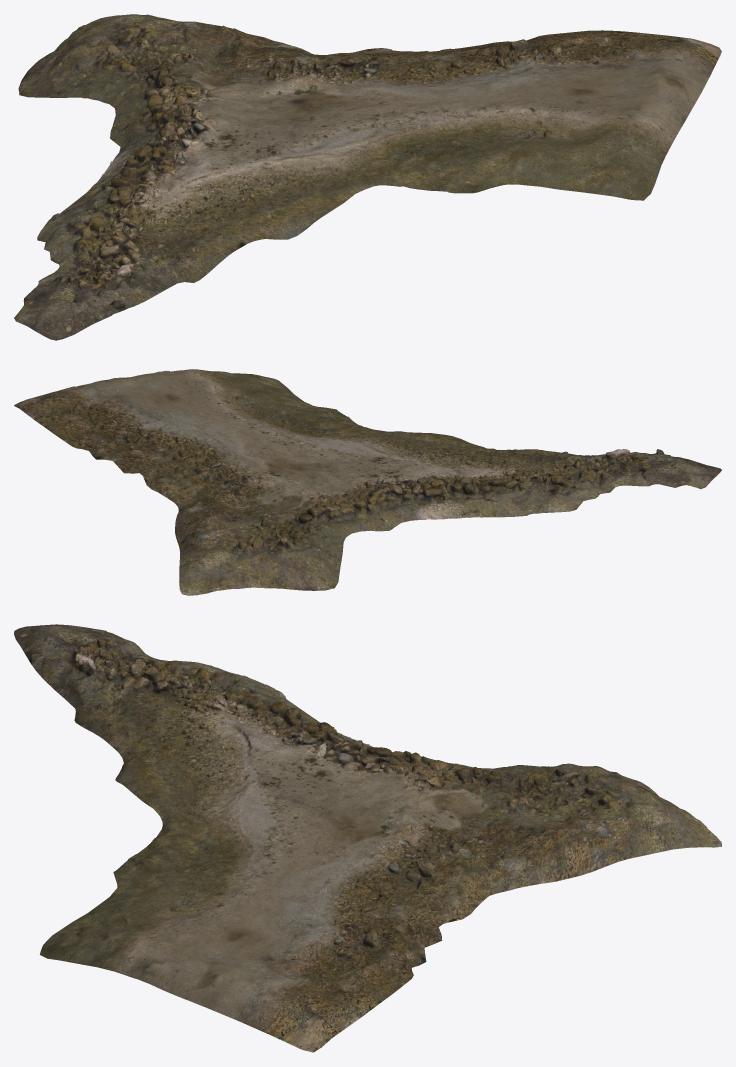
Rendered from coast_rocks_01.glb.
3 renders of one model, top to bottom at view 1: azimuth 30°, elevation 25°; view 2: azimuth 150°, elevation 25°; view 3: azimuth 270°, elevation 25°, orthographic. The views are drawn at different scales.
Parts seen in each view (by area): view 1: coast_rocks_01; view 2: coast_rocks_01; view 3: coast_rocks_01.
Part boxes in pixels (<box>): coast_rocks_01: <box>14,14,721,340</box>; coast_rocks_01: <box>14,369,721,595</box>; coast_rocks_01: <box>14,624,721,1052</box>.
Size of the model in its own units: 59.51 by 3.29 by 42.51.
1 material, 1 textured.
